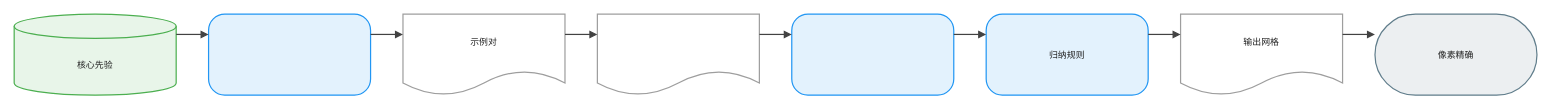
This 1552x110 diagram has some shape labels left out. Here are the shapes that lost their labels. From the top down, the centre of each, then its label:
pixel 289 54: 人工设计任务
pixel 678 54: 留出输入
pixel 872 54: 彩色网格
